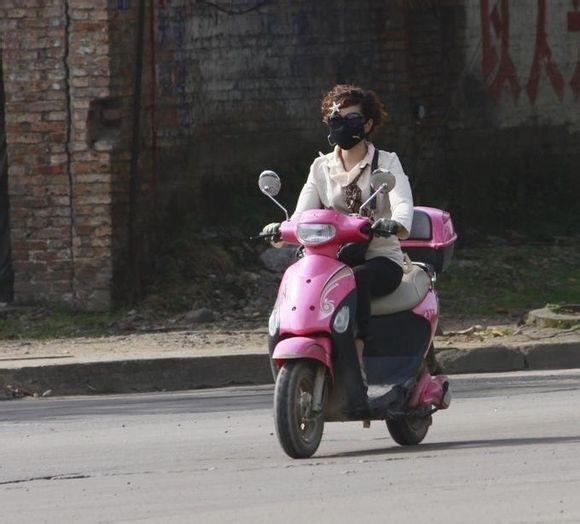OK: (331, 107, 372, 150)
